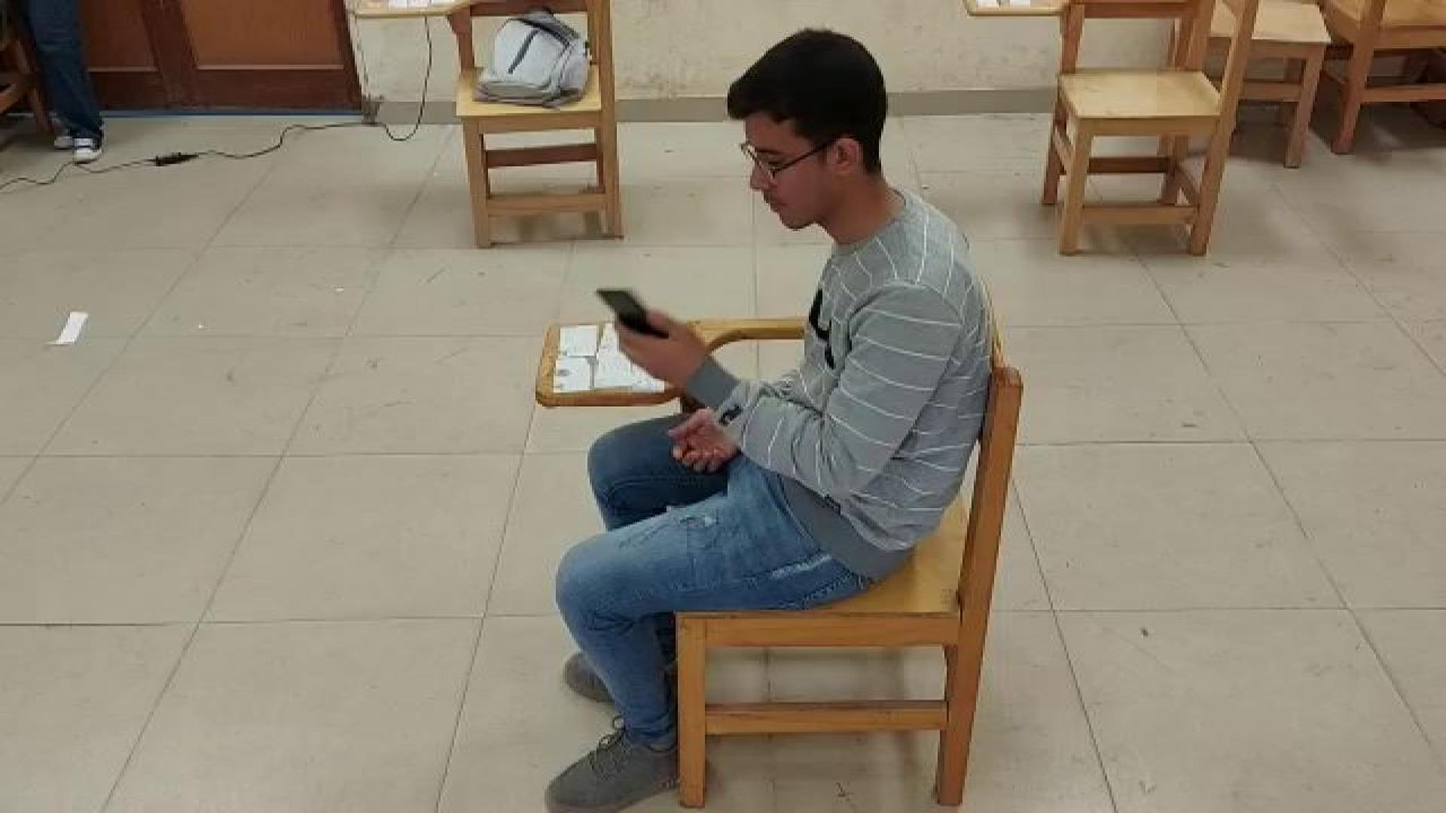phone: (592, 284, 662, 340)
